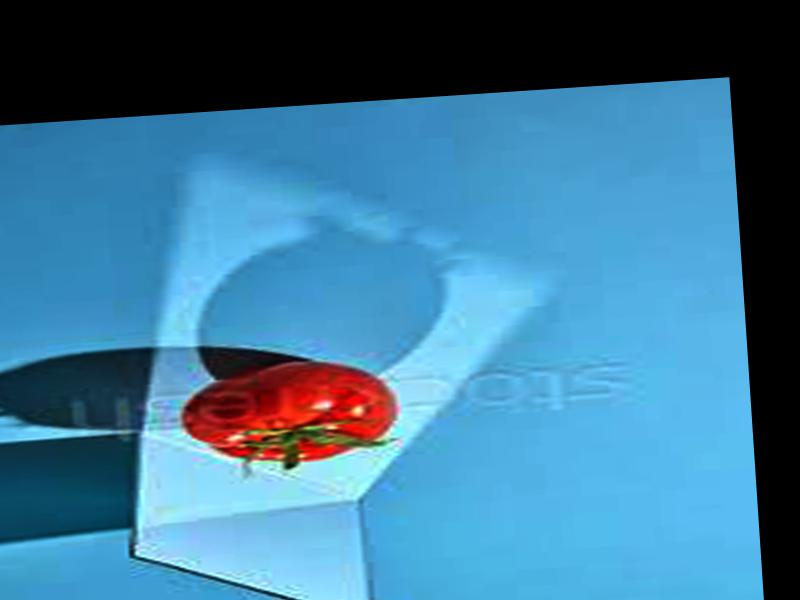Tomato: (178, 354, 398, 469)
